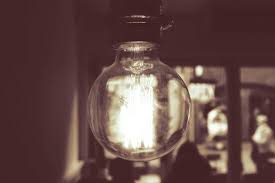bulb: (77, 28, 203, 163)
